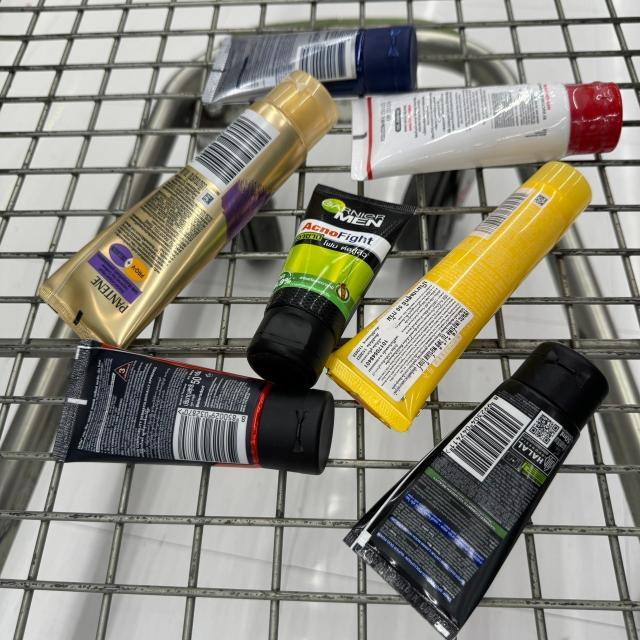Squeeze Tube: (324, 325, 620, 639), (30, 61, 344, 351), (314, 156, 610, 448), (42, 349, 338, 486), (238, 185, 418, 383), (342, 81, 634, 181), (200, 20, 423, 102)
